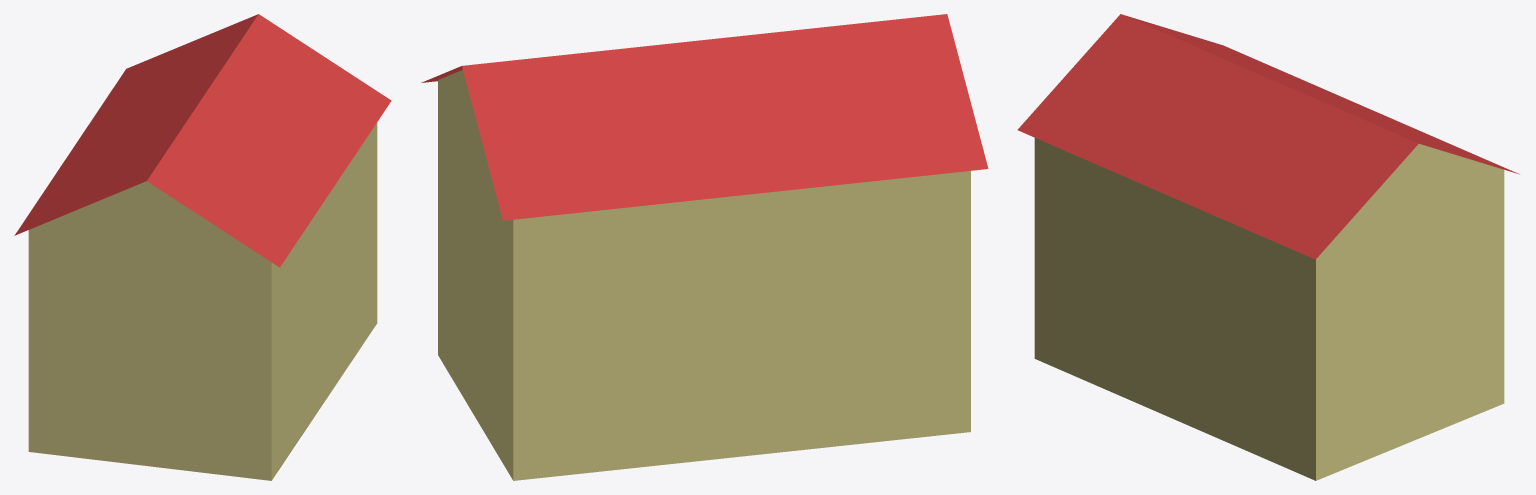
3 renders of one model, left to right at view 1: azimuth 30°, elevation 25°; view 2: azimuth 150°, elevation 25°; view 3: azimuth 270°, elevation 25°, orthographic. The views are drawn at different scales.
Size of the model in its own units: 20.71 by 20.6 by 13.62.
